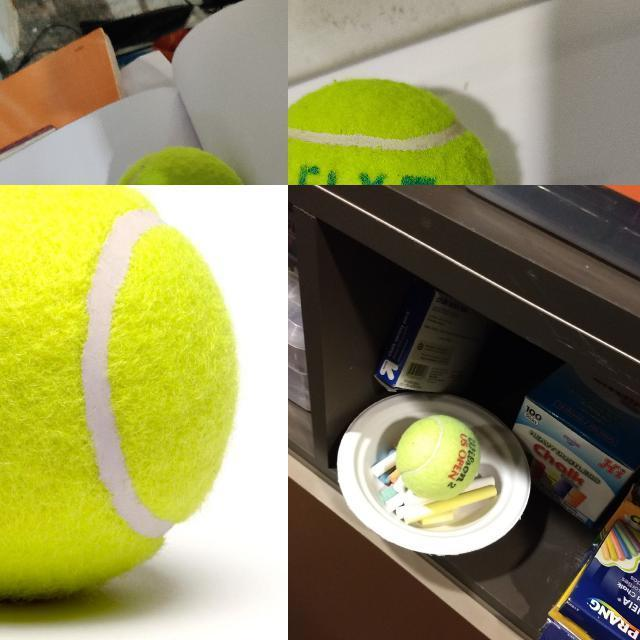tennis-ball: (0, 185, 240, 604), (288, 77, 502, 184), (395, 414, 481, 501), (107, 145, 253, 184)
